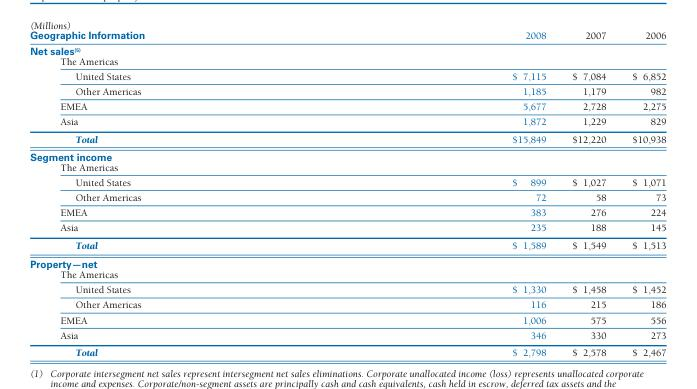table: (29, 29, 665, 358)
table column: (29, 29, 327, 358), (327, 29, 558, 358), (558, 29, 618, 358), (618, 29, 665, 358)
table column header: (29, 29, 665, 42)
table projected row header: (29, 254, 665, 269), (29, 147, 665, 161), (29, 42, 665, 55), (29, 55, 665, 68), (29, 161, 665, 174), (29, 269, 665, 281)
table row: (29, 236, 665, 254), (29, 113, 665, 130), (29, 130, 665, 147), (29, 219, 665, 236), (29, 296, 665, 312), (29, 327, 665, 343), (29, 68, 665, 83), (29, 83, 665, 98), (29, 98, 665, 113), (29, 174, 665, 189), (29, 189, 665, 204), (29, 204, 665, 219), (29, 254, 665, 269), (29, 281, 665, 296), (29, 312, 665, 327), (29, 343, 665, 358), (29, 147, 665, 161), (29, 29, 665, 42), (29, 42, 665, 55), (29, 55, 665, 68), (29, 161, 665, 174), (29, 269, 665, 281)
